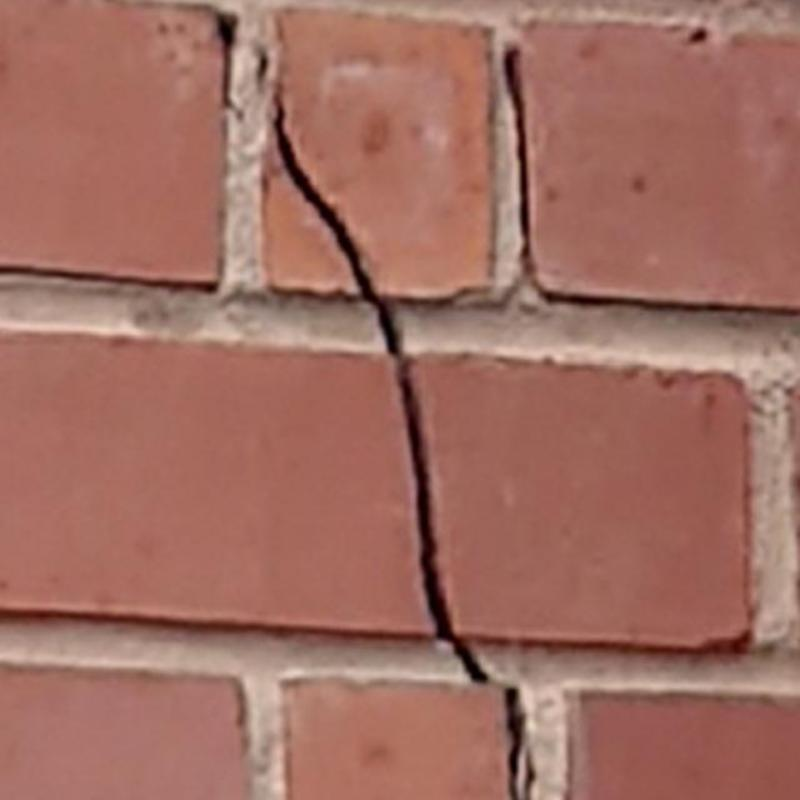pothole: (273, 91, 488, 682), (530, 275, 799, 319), (505, 47, 532, 261), (455, 260, 532, 314), (507, 688, 534, 799), (217, 10, 244, 118), (258, 49, 270, 91)
